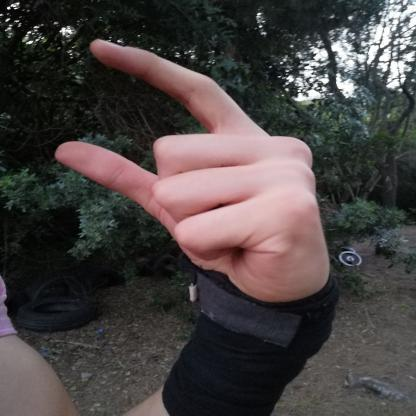DELL: (36, 28, 348, 316)
